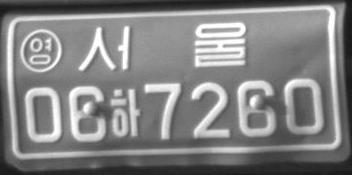0: (283, 77, 325, 136), (24, 86, 62, 143)
2: (189, 80, 230, 139)
6: (236, 79, 276, 138)
7: (144, 81, 182, 140)
8: (67, 85, 107, 143)
서울_D: (77, 21, 247, 72)
영: (19, 27, 62, 73)
하: (109, 88, 141, 137)
